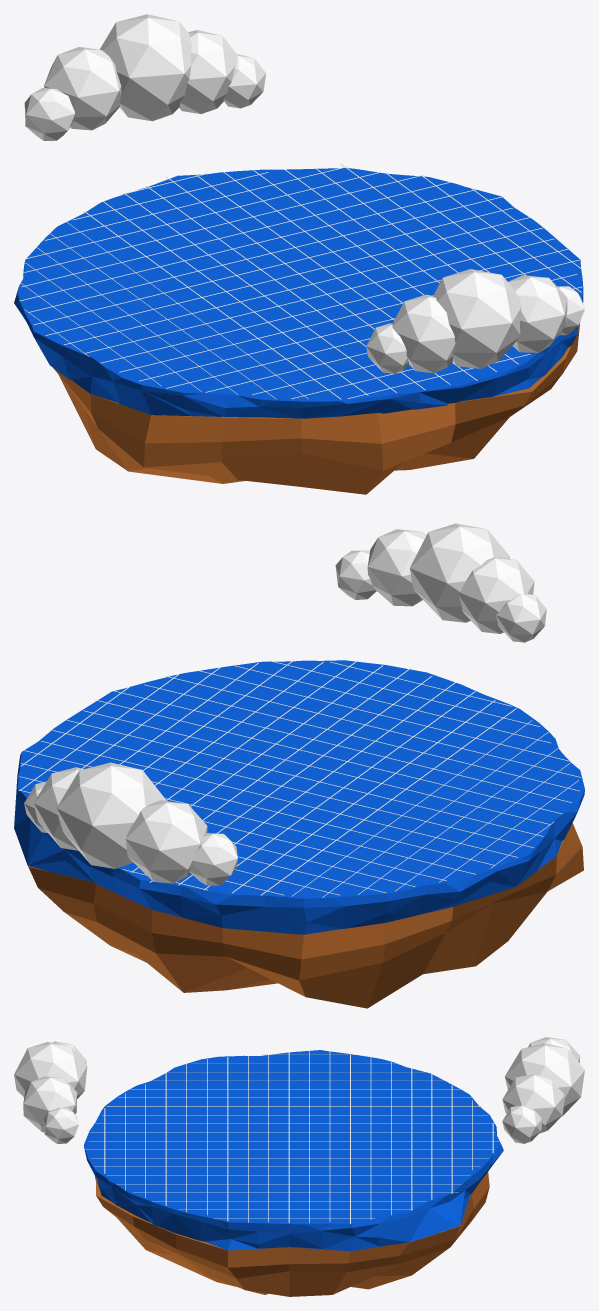
The model's file is island_game.7bf87c96.fbx.
The picture shows the model from 3 angles, top to bottom: view 1: azimuth 30°, elevation 25°; view 2: azimuth 150°, elevation 25°; view 3: azimuth 270°, elevation 25°; orthographic projection. The views are drawn at different scales.
Parts seen in each view (by area): view 1: sea_trans__083D8A, island__873B08, cloud_0__FFFFFF, cloud_1__FFFFFF, line__FFFFFF; view 2: sea_trans__083D8A, island__873B08, cloud_0__FFFFFF, cloud_1__FFFFFF, line__FFFFFF; view 3: sea_trans__083D8A, island__873B08, line__FFFFFF, cloud_0__FFFFFF, cloud_1__FFFFFF.
Part boxes in pixels (x1,y1,x2,y2): sea_trans__083D8A: [14, 168, 583, 418]; island__873B08: [53, 323, 579, 494]; cloud_0__FFFFFF: [24, 14, 266, 140]; cloud_1__FFFFFF: [366, 269, 584, 373]; line__FFFFFF: [19, 163, 582, 399]; sea_trans__083D8A: [14, 660, 584, 934]; island__873B08: [28, 823, 583, 1008]; cloud_0__FFFFFF: [24, 762, 237, 885]; cloud_1__FFFFFF: [335, 523, 546, 642]; line__FFFFFF: [18, 660, 580, 897]; sea_trans__083D8A: [84, 1050, 503, 1251]; island__873B08: [95, 1171, 489, 1296]; line__FFFFFF: [84, 1050, 502, 1223]; cloud_0__FFFFFF: [502, 1037, 584, 1143]; cloud_1__FFFFFF: [14, 1041, 87, 1143].
Size of the model in its own units: 3.8 by 2.46 by 5.25.
